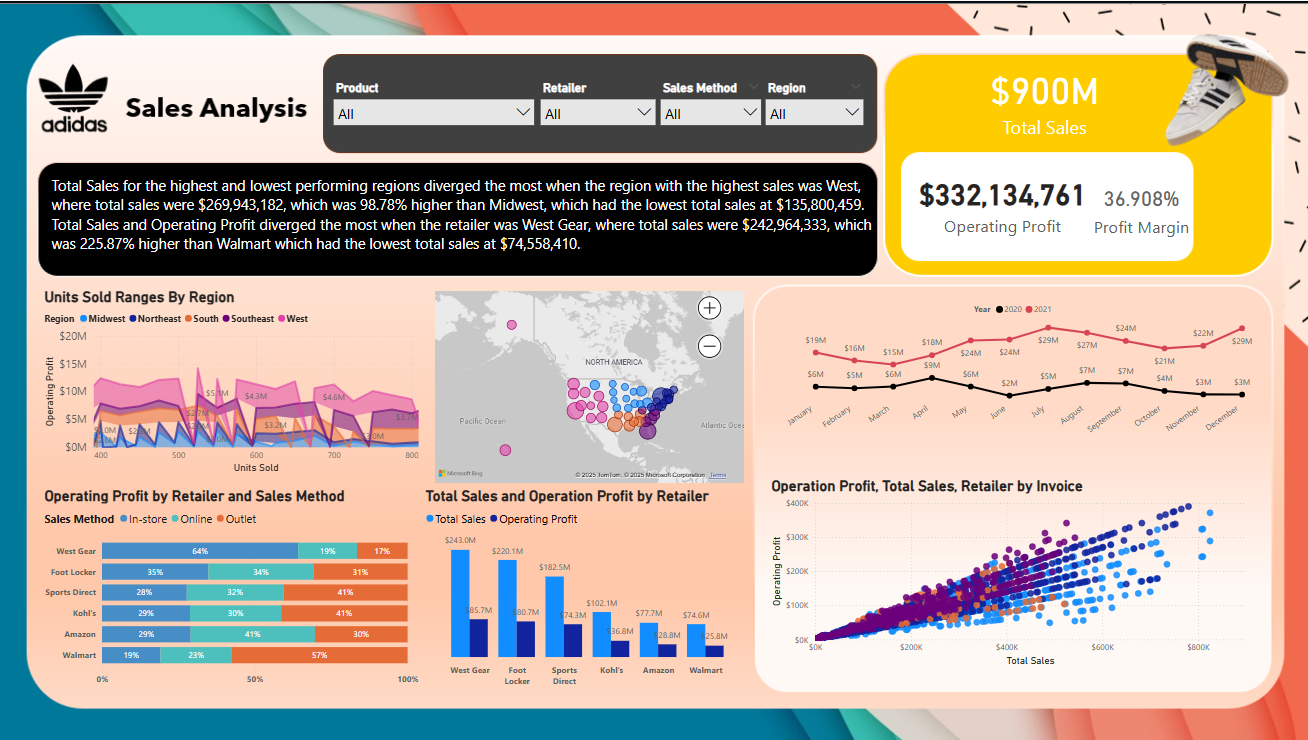

Layout of this report page (visuals, bound fields, positions):
{"tool":"powerbi","page":{"name":"Page 1","canvas":[1920,1080],"ordinal":0},"visuals":[{"type":"card","fields":{"Values":["Sum(Cleaned_Adidas_Sales_Data.Total Sales)"]},"box":[1326.5,82.4,407.7,116.9],"z":0},{"type":"card","fields":{"Values":["Sum(Cleaned_Adidas_Sales_Data.Operating Profit)"]},"box":[1326.5,235.3,284.8,118.4],"z":1000},{"type":"card","fields":{"Values":["Cleaned_Adidas_Sales_Data.Profit Margin"]},"box":[1593.3,248.8,155.9,104.9],"z":2000},{"type":"hundredPercentStackedBarChart","title":"Operating Profit by Retailer and Sales Method","fields":{"Series":["Cleaned_Adidas_Sales_Data.Sales Method"],"Category":["Cleaned_Adidas_Sales_Data.Retailer"],"Y":["Sum(Cleaned_Adidas_Sales_Data.Operating Profit)"]},"box":[65.7,709.1,555.9,299.1],"z":3000},{"type":"clusteredColumnChart","title":"Total Sales and Operation Profit by Retailer","fields":{"Category":["Cleaned_Adidas_Sales_Data.Retailer"],"Y":["Sum(Cleaned_Adidas_Sales_Data.Total Sales)","Sum(Cleaned_Adidas_Sales_Data.Operating Profit)"]},"box":[621.5,709.1,474.2,299.1],"z":4000},{"type":"map","title":"Total Sales by State and Region","fields":{"Category":["Cleaned_Adidas_Sales_Data.State"],"Series":["Cleaned_Adidas_Sales_Data.Region"],"Size":["Sum(Cleaned_Adidas_Sales_Data.Total Sales)"]},"box":[636.1,418.7,459.6,290.3],"z":5000},{"type":"slicer","fields":{"Values":["Cleaned_Adidas_Sales_Data.Product"]},"box":[482.9,110.9,312.2,89],"z":6000},{"type":"slicer","fields":{"Values":["Cleaned_Adidas_Sales_Data.Retailer"]},"box":[784.9,110.9,186.7,89],"z":7000},{"type":"slicer","fields":{"Values":["Cleaned_Adidas_Sales_Data.Sales Method"]},"box":[960,110.9,166.3,89],"z":8000},{"type":"slicer","fields":{"Values":["Cleaned_Adidas_Sales_Data.Region"]},"box":[1113.2,110.9,161.9,89],"z":9000},{"type":"textbox","box":[75.9,249.5,1209.5,134.2],"z":10000},{"type":"stackedAreaChart","title":"Units Sold Ranges By Region","fields":{"Category":["Cleaned_Adidas_Sales_Data.Units Sold"],"Series":["Cleaned_Adidas_Sales_Data.Region"],"Y":["Sum(Cleaned_Adidas_Sales_Data.Operating Profit)"]},"box":[65.7,418.7,555.9,275.7],"z":11000},{"type":"scatterChart","title":"Operation Profit, Total Sales, Retailer by Invoice","fields":{"X":["Cleaned_Adidas_Sales_Data.Total Sales"],"Y":["Cleaned_Adidas_Sales_Data.Operating Profit"],"Series":["Cleaned_Adidas_Sales_Data.Retailer ID"]},"box":[1126.3,694.5,719.3,280.1],"z":12000},{"type":"lineChart","fields":{"Y":["Sum(Cleaned_Adidas_Sales_Data.Operating Profit)"],"Category":["Cleaned_Adidas_Sales_Data.Invoice Date.Variation.Date Hierarchy.Month"],"Series":["Cleaned_Adidas_Sales_Data.Year"]},"box":[1126.3,430.4,719.3,218.8],"z":13000}]}

Visuals, with their boxes in screenshot pixels (x1, y1, x2, y2), scaled from the page's 1920x1080 canvas onto the 1308x740 screenshot:
card - Sum(Cleaned_Adidas_Sales_Data.Total Sales): {"x1": 904, "y1": 56, "x2": 1181, "y2": 137}
card - Sum(Cleaned_Adidas_Sales_Data.Operating Profit): {"x1": 904, "y1": 161, "x2": 1098, "y2": 242}
card - Cleaned_Adidas_Sales_Data.Profit Margin: {"x1": 1085, "y1": 170, "x2": 1192, "y2": 242}
"Operating Profit by Retailer and Sales Method" hundredPercentStackedBarChart: {"x1": 45, "y1": 486, "x2": 423, "y2": 691}
"Total Sales and Operation Profit by Retailer" clusteredColumnChart: {"x1": 423, "y1": 486, "x2": 746, "y2": 691}
"Total Sales by State and Region" map: {"x1": 433, "y1": 287, "x2": 746, "y2": 486}
slicer - Cleaned_Adidas_Sales_Data.Product: {"x1": 329, "y1": 76, "x2": 542, "y2": 137}
slicer - Cleaned_Adidas_Sales_Data.Retailer: {"x1": 535, "y1": 76, "x2": 662, "y2": 137}
slicer - Cleaned_Adidas_Sales_Data.Sales Method: {"x1": 654, "y1": 76, "x2": 767, "y2": 137}
slicer - Cleaned_Adidas_Sales_Data.Region: {"x1": 758, "y1": 76, "x2": 869, "y2": 137}
textbox: {"x1": 52, "y1": 171, "x2": 876, "y2": 263}
"Units Sold Ranges By Region" stackedAreaChart: {"x1": 45, "y1": 287, "x2": 423, "y2": 476}
"Operation Profit, Total Sales, Retailer by Invoice" scatterChart: {"x1": 767, "y1": 476, "x2": 1257, "y2": 668}
lineChart - Sum(Cleaned_Adidas_Sales_Data.Operating Profit) x Cleaned_Adidas_Sales_Data.Invoice Date.Variation.Date Hierarchy.Month: {"x1": 767, "y1": 295, "x2": 1257, "y2": 445}
